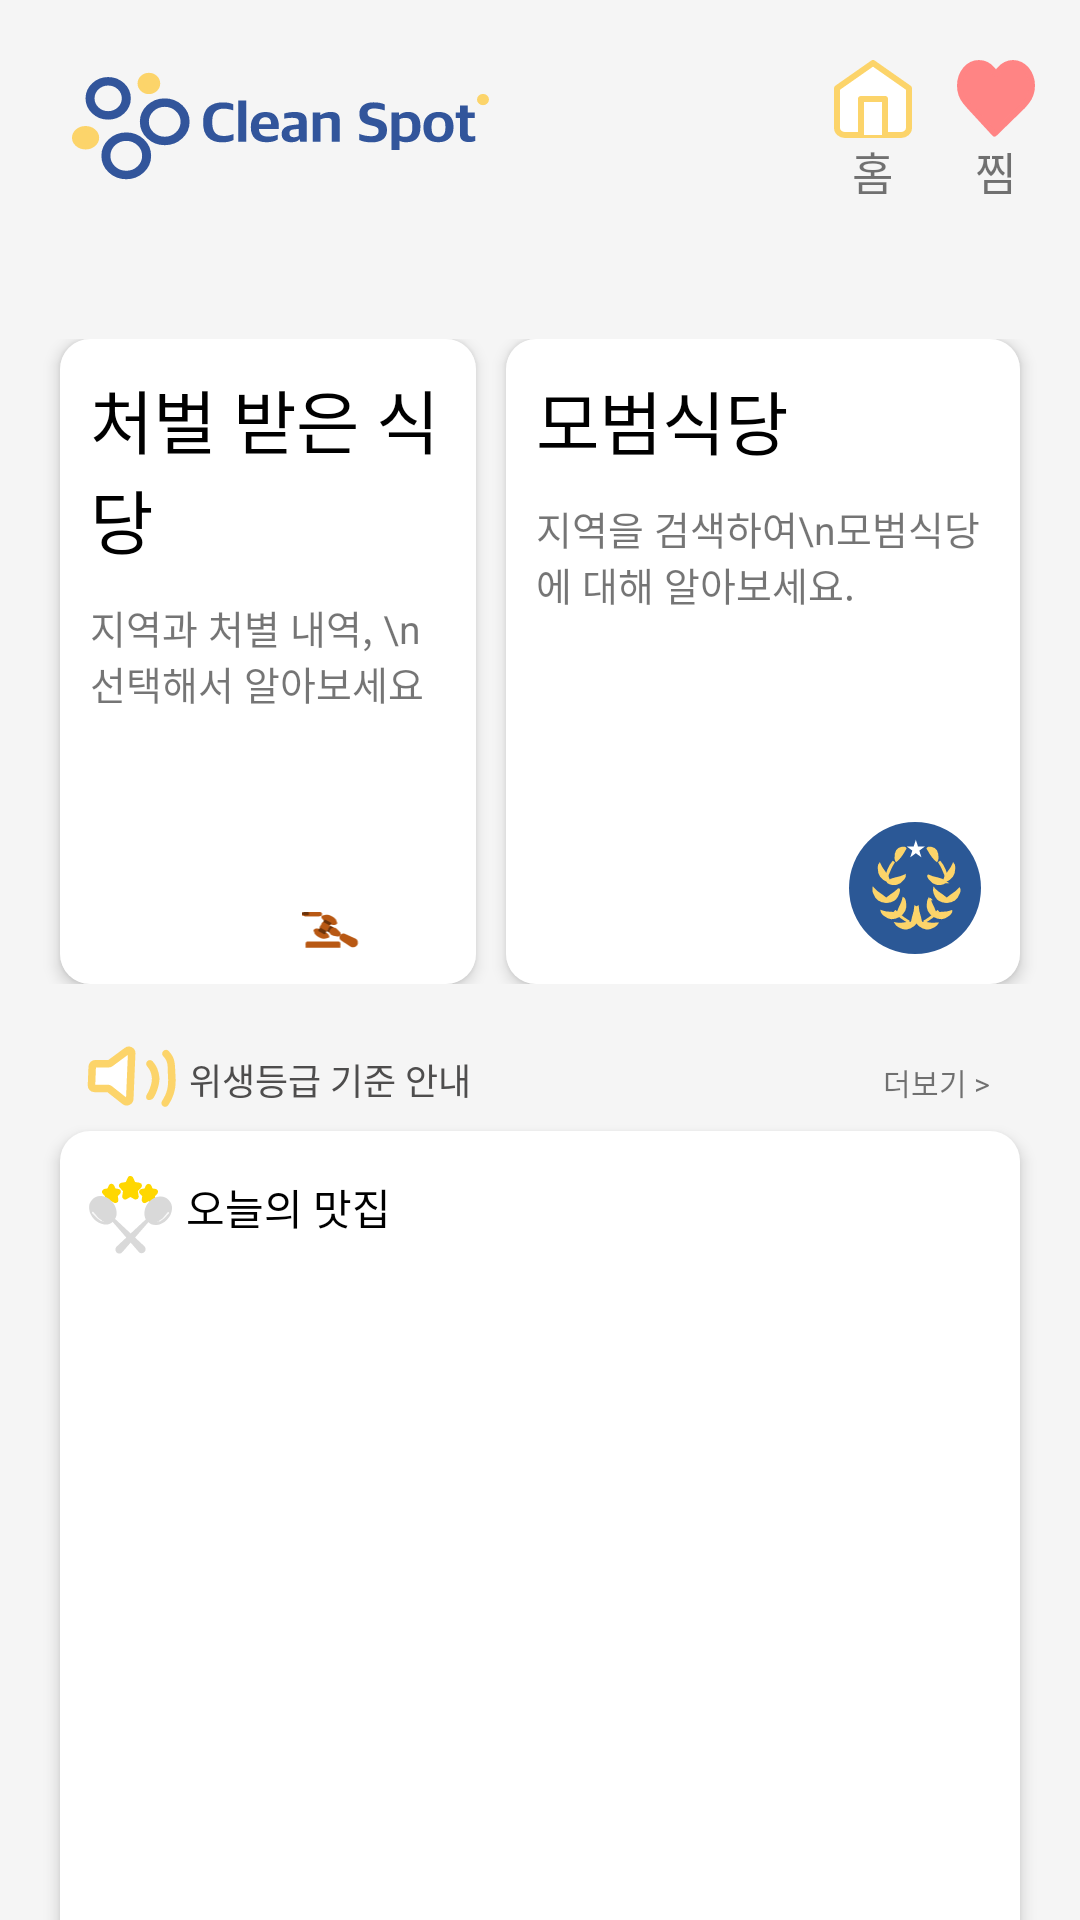

Where to tap for icons on this 1080px x 1920px app screen, as (x,y):
judge: (330,930)
sound: (131,1076)
